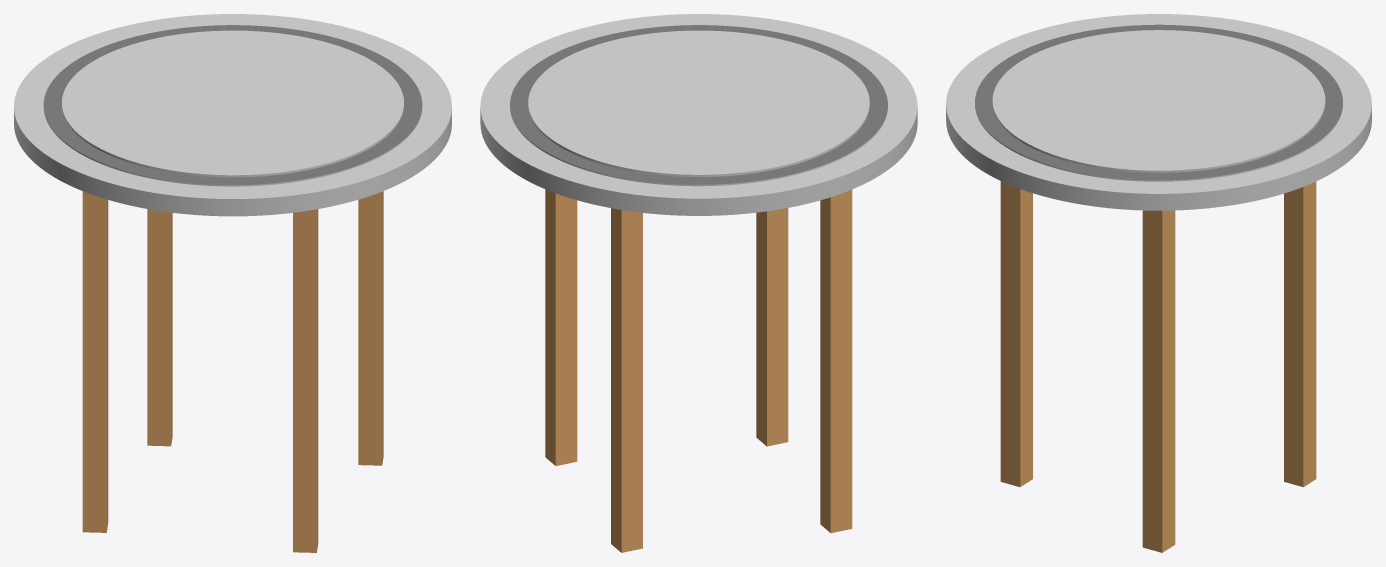
File: platform3.fbx
3 views of the same model, side by side, from view 1: azimuth 30°, elevation 25°; view 2: azimuth 150°, elevation 25°; view 3: azimuth 270°, elevation 25° (orthographic). The views are drawn at different scales.
Visible parts, largest first — view 1: Cylinder.002; view 2: Cylinder.002; view 3: Cylinder.002.
Part boxes in pixels (bbox=[...]): Cylinder.002: bbox=[14, 14, 451, 552]; Cylinder.002: bbox=[480, 14, 917, 552]; Cylinder.002: bbox=[946, 14, 1371, 552].
Size of the model in its own units: 3647 by 3593 by 3647.
